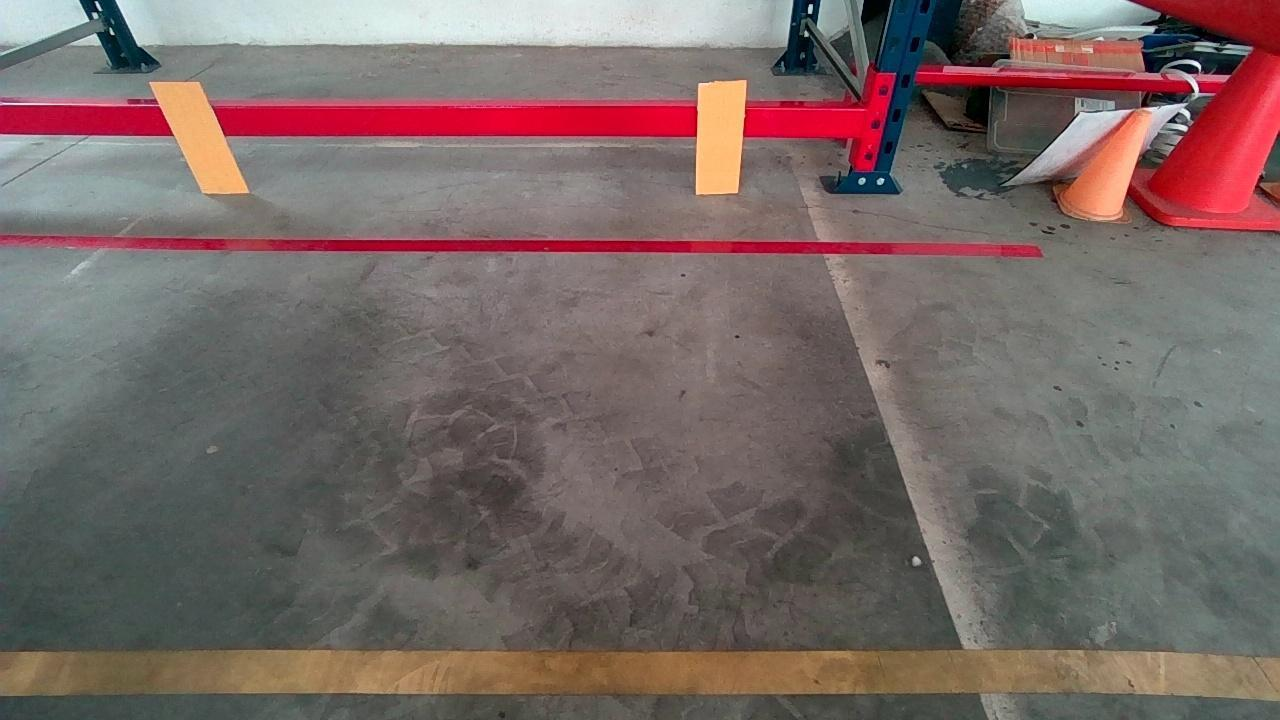h_rack: (0, 98, 875, 142)
orange_strip: (149, 80, 248, 192), (696, 82, 745, 193)
red_line: (0, 231, 1042, 256)
yellow_line: (0, 637, 1262, 709)
